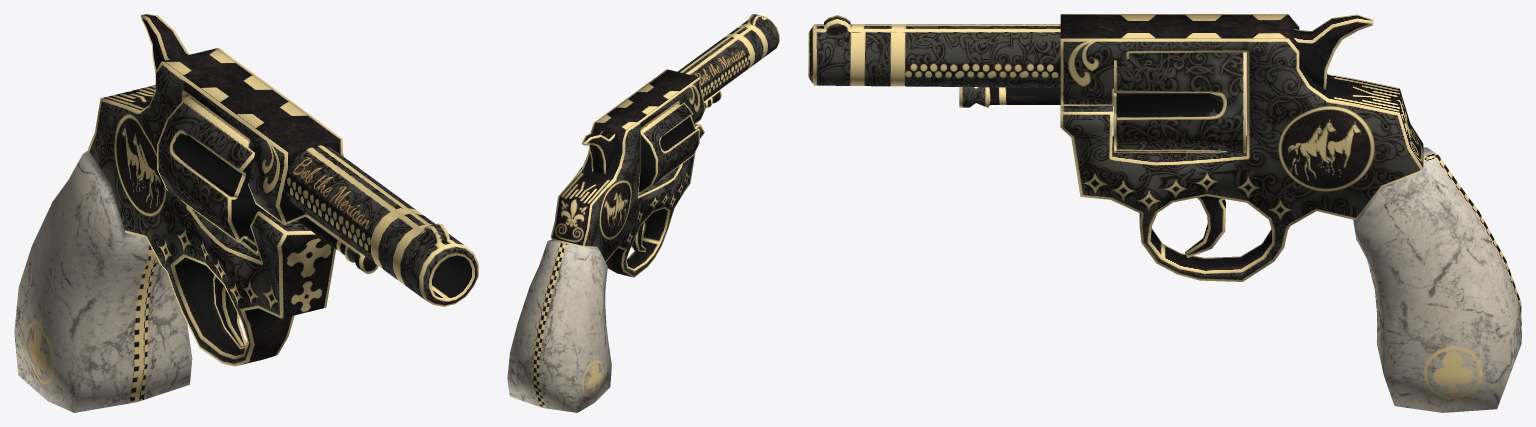
3 views of the same model, side by side, from view 1: azimuth 30°, elevation 25°; view 2: azimuth 150°, elevation 25°; view 3: azimuth 270°, elevation 25° (orthographic). The views are drawn at different scales.
Parts seen in each view (by area): view 1: Pistola_low; view 2: Pistola_low; view 3: Pistola_low.
Boxes of the visible parts, left/top/right/bottom form: Pistola_low: left=14, top=14, right=478, bottom=412; Pistola_low: left=507, top=14, right=779, bottom=412; Pistola_low: left=808, top=14, right=1521, bottom=412.
Bounding box in the file's own units: 0.3912 × 1.16 × 2.
1 material, 1 textured.
